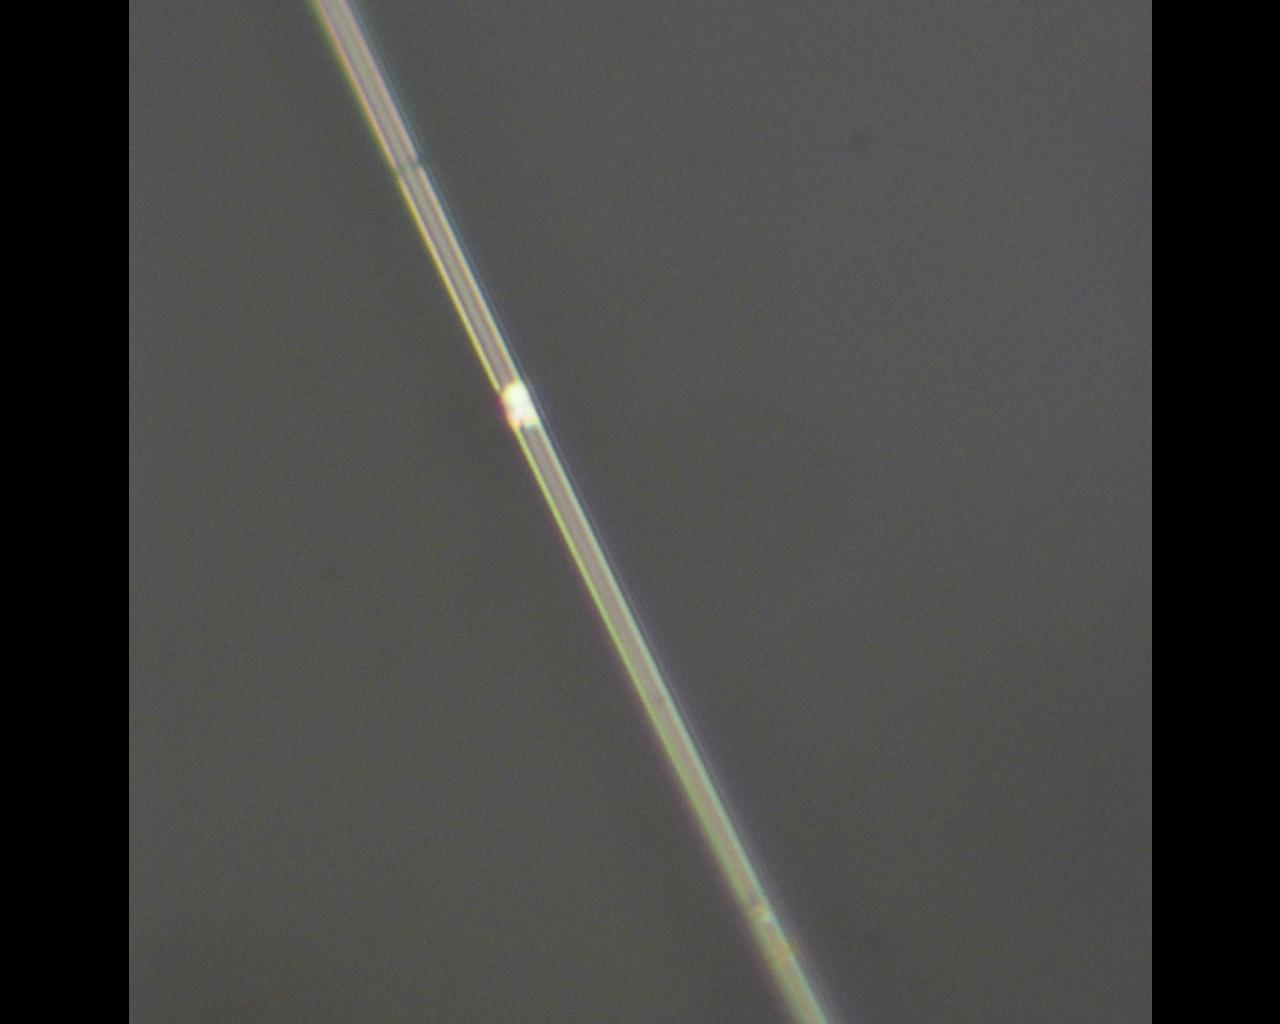fiber: (313, 0, 833, 1024)
